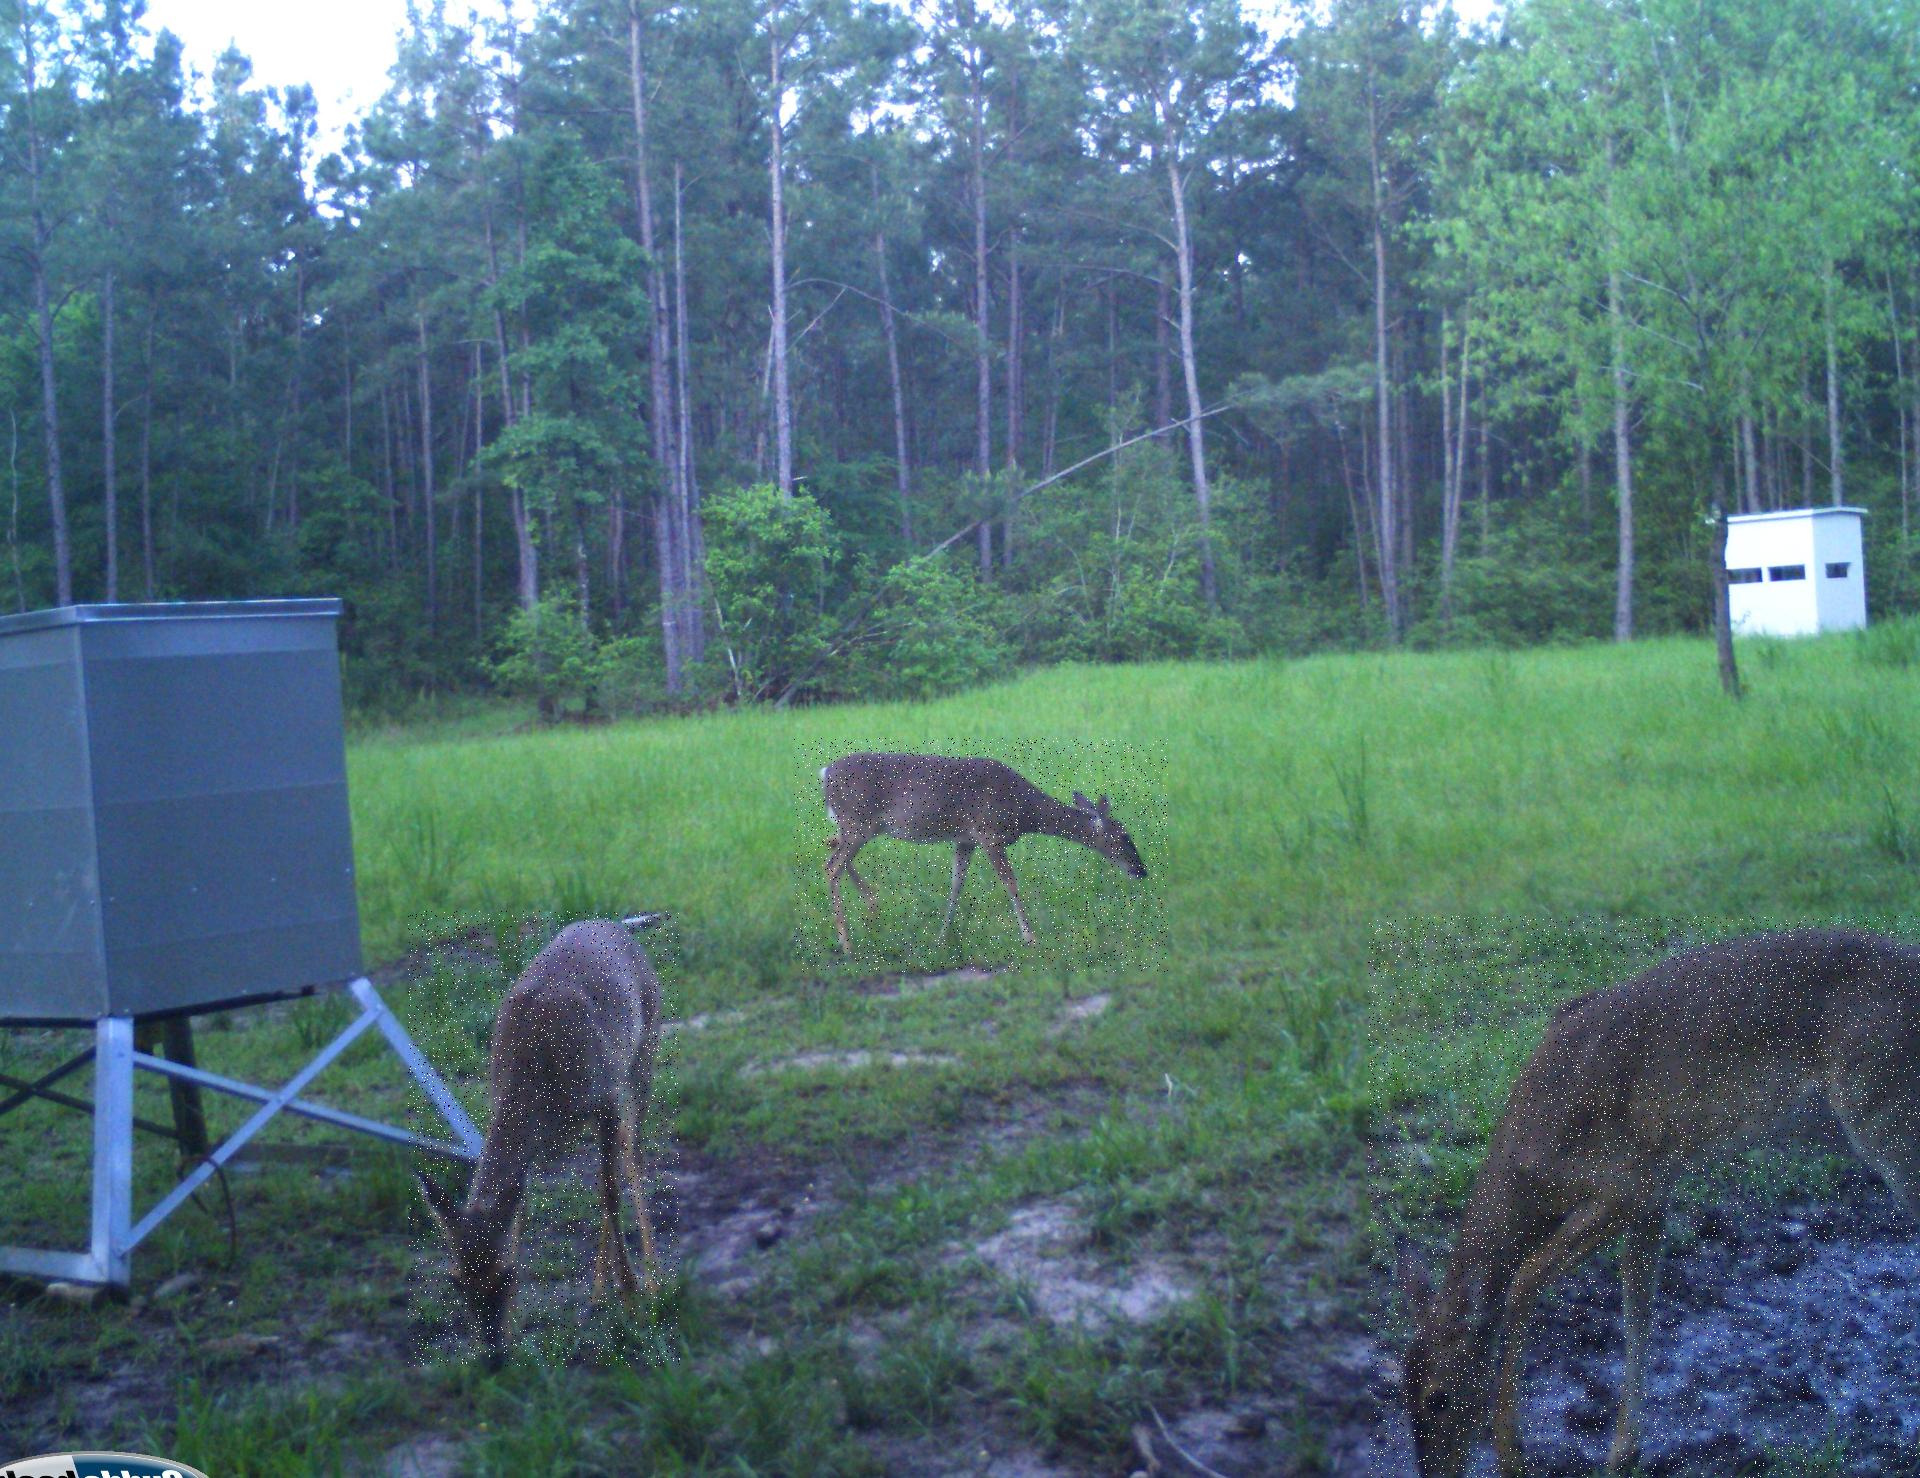Deer: (1367, 916, 1920, 1478), (408, 911, 680, 1368), (795, 739, 1169, 972)
